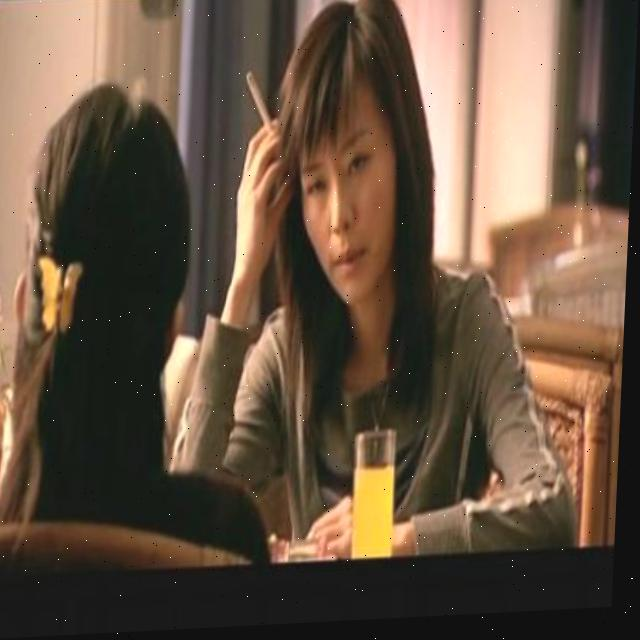cigarette: (243, 72, 275, 136)
